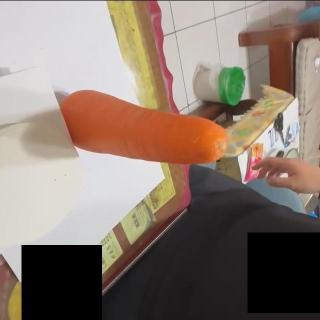carrot: (65, 89, 229, 165)
